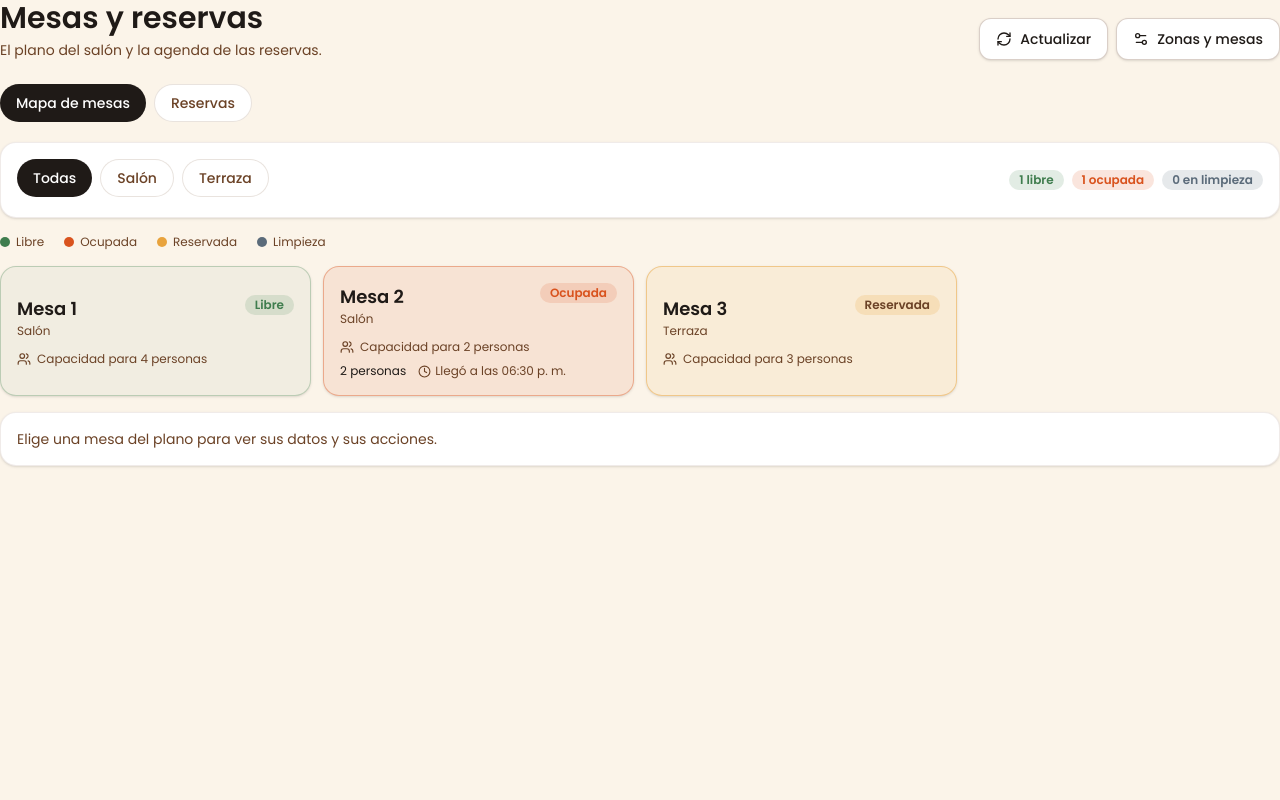
it: Mesas › una mesa ocupada ofrece 'Tomar pedido' y abre el pedido de esa mesa en la misma pantalla
The width and height of the screenshot is (1280, 800).
Click the button with aria-label "Mesa 2," at (367, 296), box left=323, top=266, right=634, bottom=396
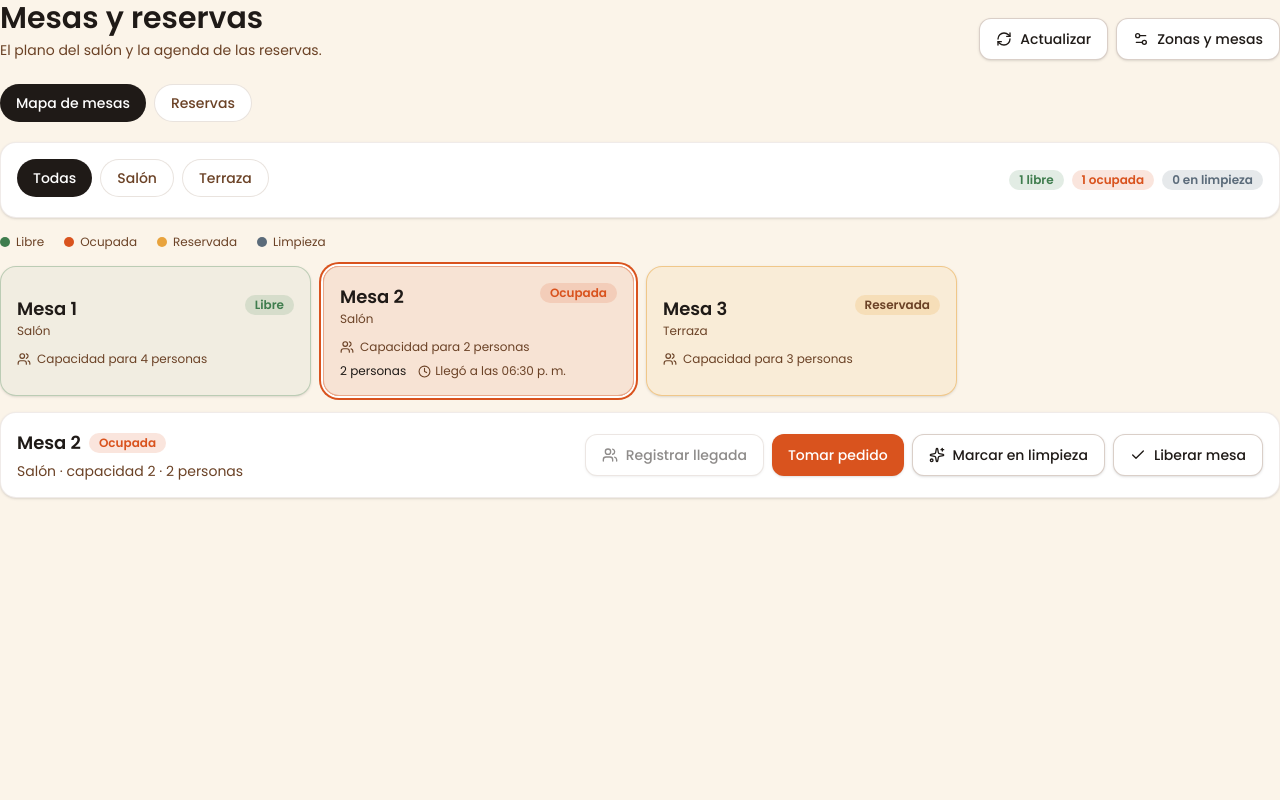
Click the button "Tomar pedido" at (838, 455), box left=772, top=434, right=904, bottom=476
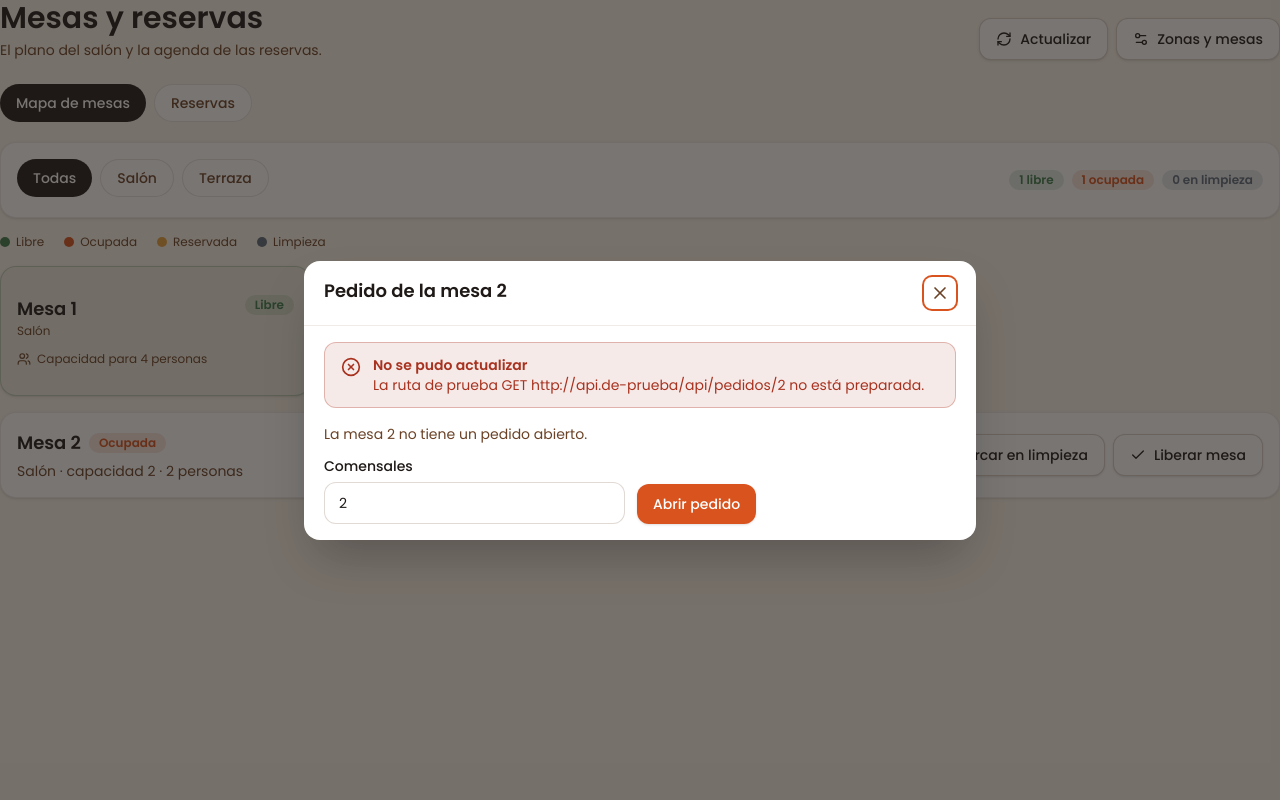
Check: the dialog "Pedido de la mesa 2" is shown, box left=304, top=260, right=976, bottom=540
